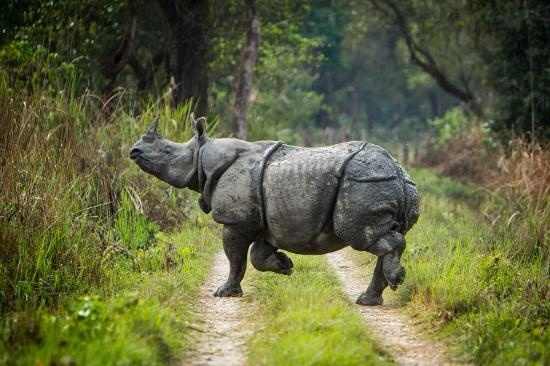rhino: (126, 113, 424, 308)
